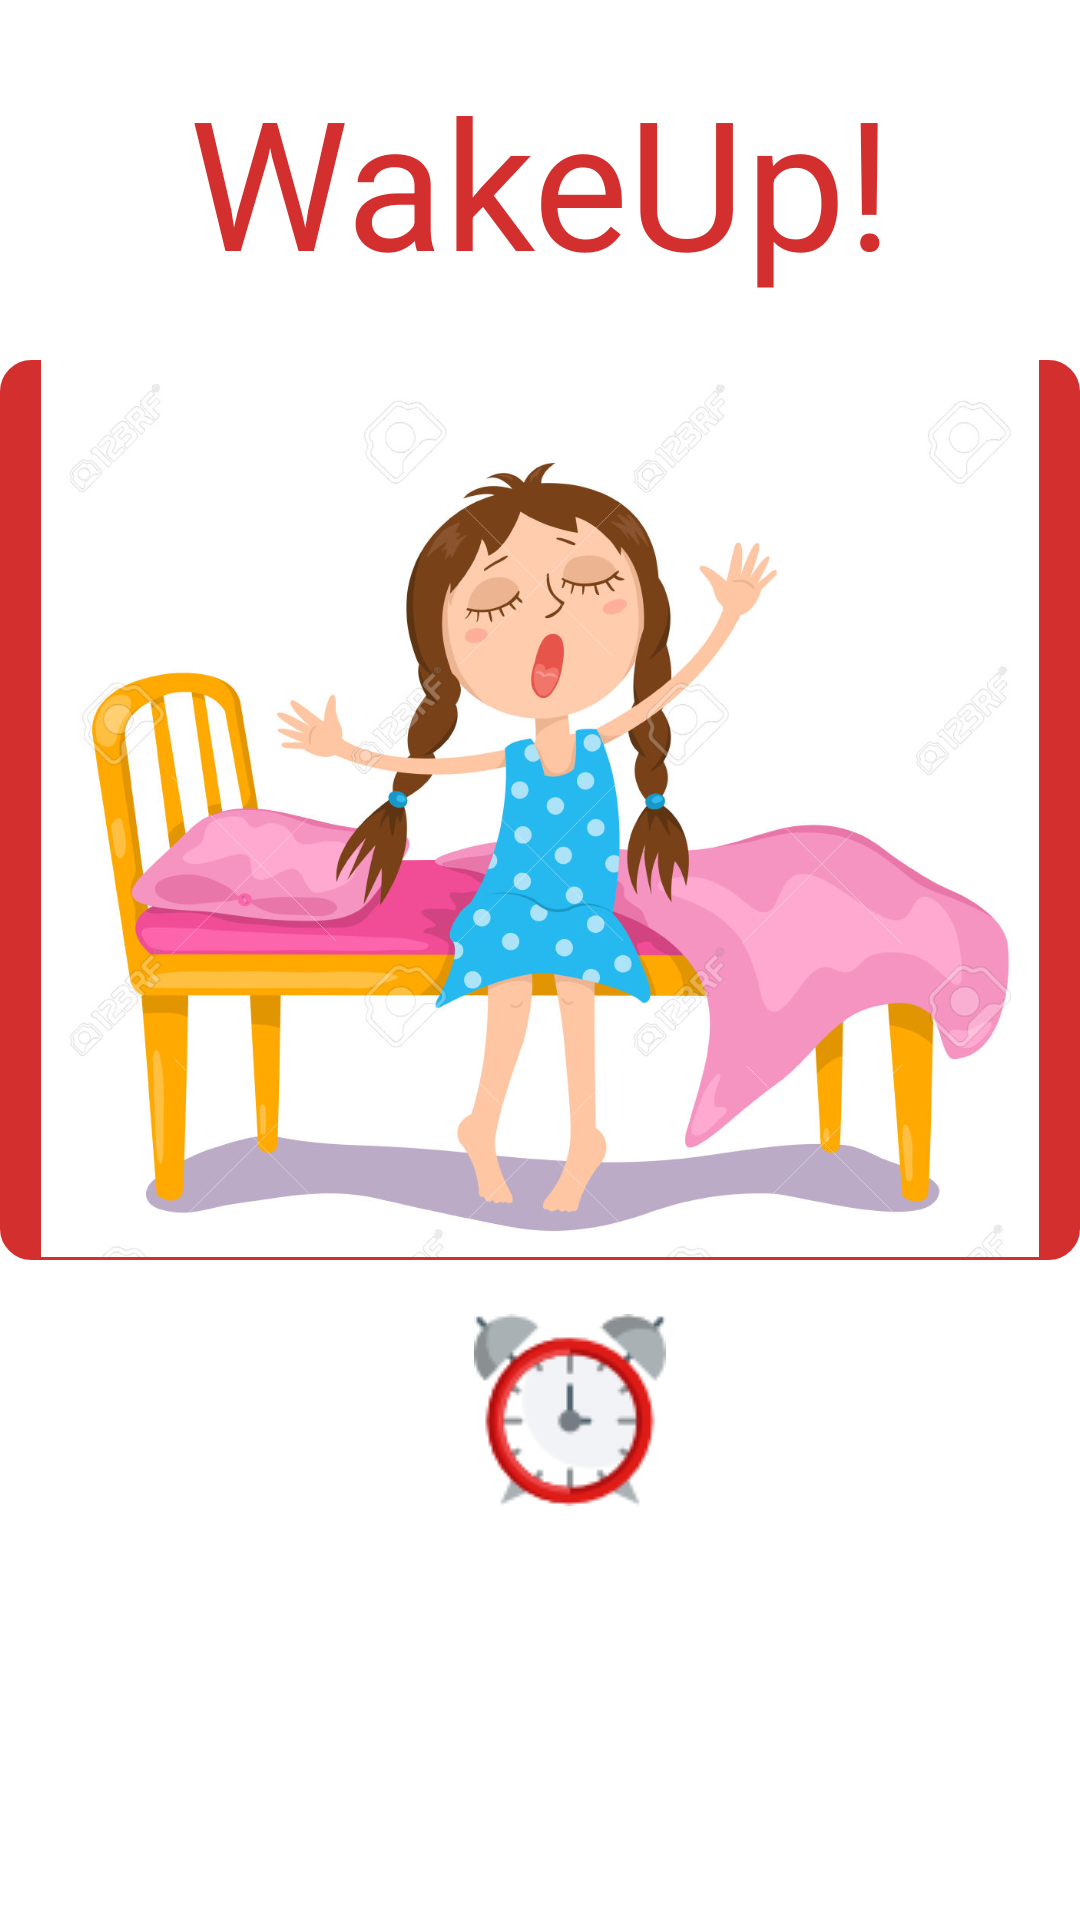

Locate icon controls on the screen. Image size 1080w x 1920h, boxes as (x1, y1, x2, y2).
clock: (474, 1314, 666, 1506)
